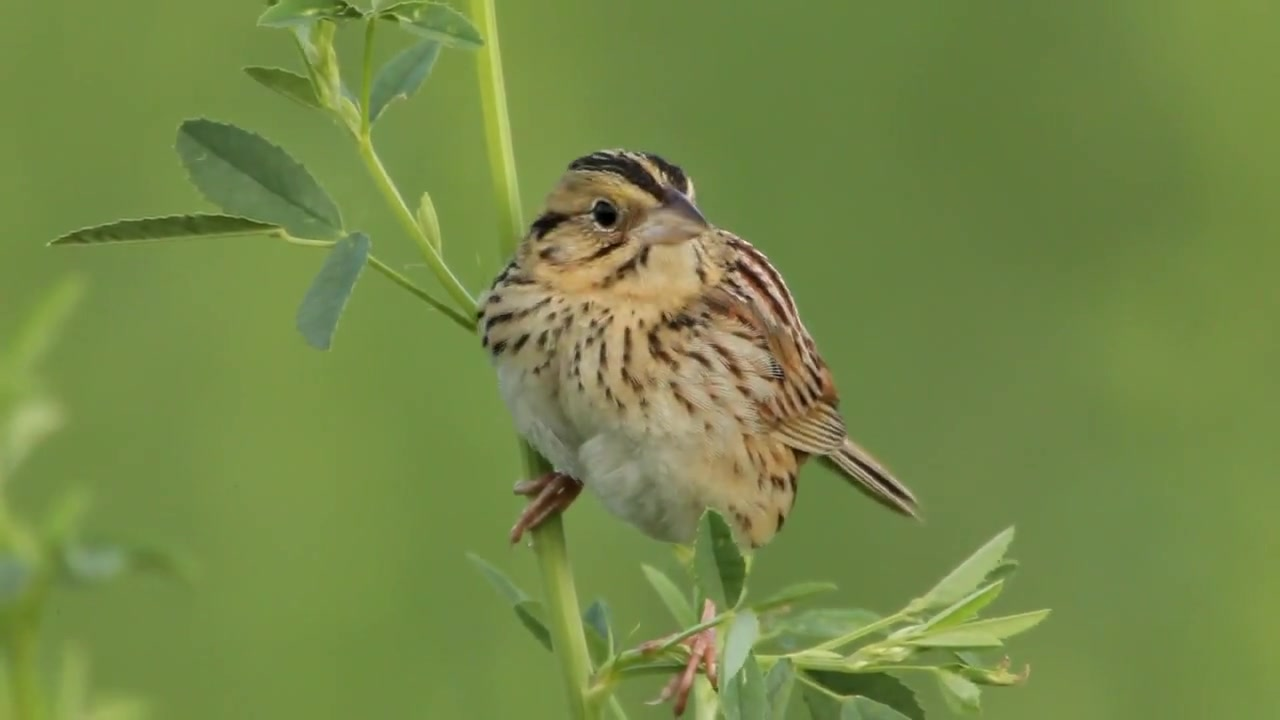bird: (475, 152, 924, 719)
